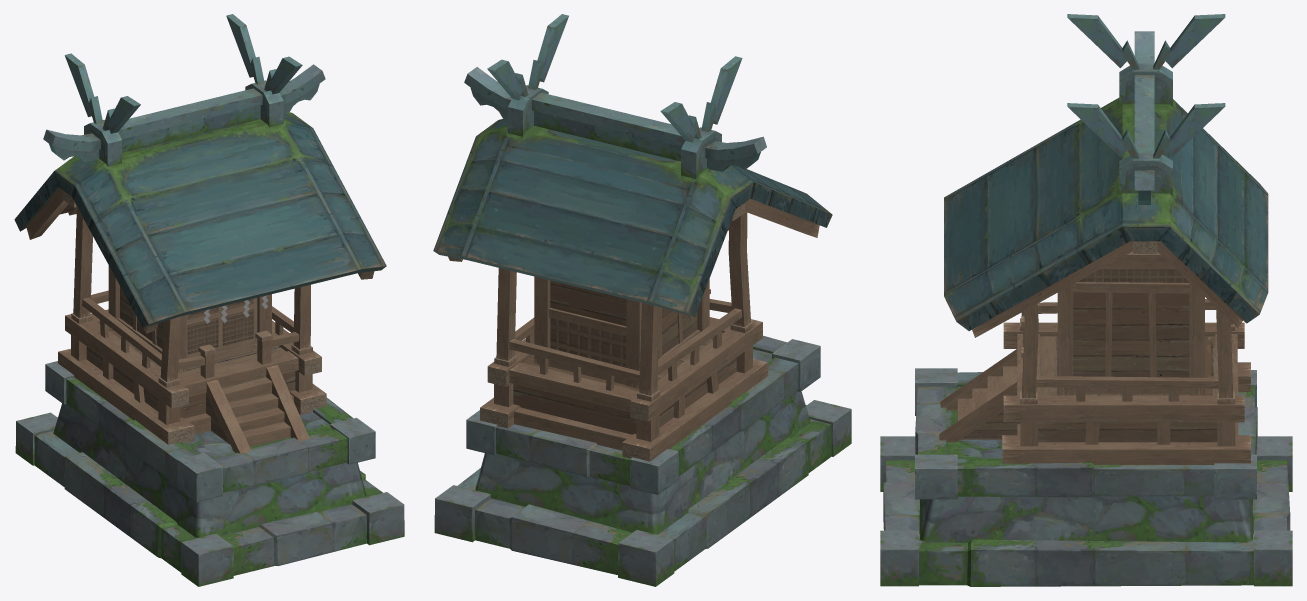
Rendered from Homeworld_Exterior_Dq_Build_Baldachine_01_Lod0.fbx.
3 views of the same model, side by side, from view 1: azimuth 30°, elevation 25°; view 2: azimuth 150°, elevation 25°; view 3: azimuth 270°, elevation 25° (orthographic). The views are drawn at different scales.
Parts seen in each view (by area): view 1: Area_Dq_Prop_Common_Shrine_01_Lod0; view 2: Area_Dq_Prop_Common_Shrine_01_Lod0; view 3: Area_Dq_Prop_Common_Shrine_01_Lod0.
Boxes of the visible parts, left/top/right/bottom form: Area_Dq_Prop_Common_Shrine_01_Lod0: left=14, top=14, right=404, bottom=586; Area_Dq_Prop_Common_Shrine_01_Lod0: left=433, top=14, right=851, bottom=586; Area_Dq_Prop_Common_Shrine_01_Lod0: left=880, top=14, right=1292, bottom=586.
Size of the model in its own units: 2.84 by 4.12 by 3.29.
